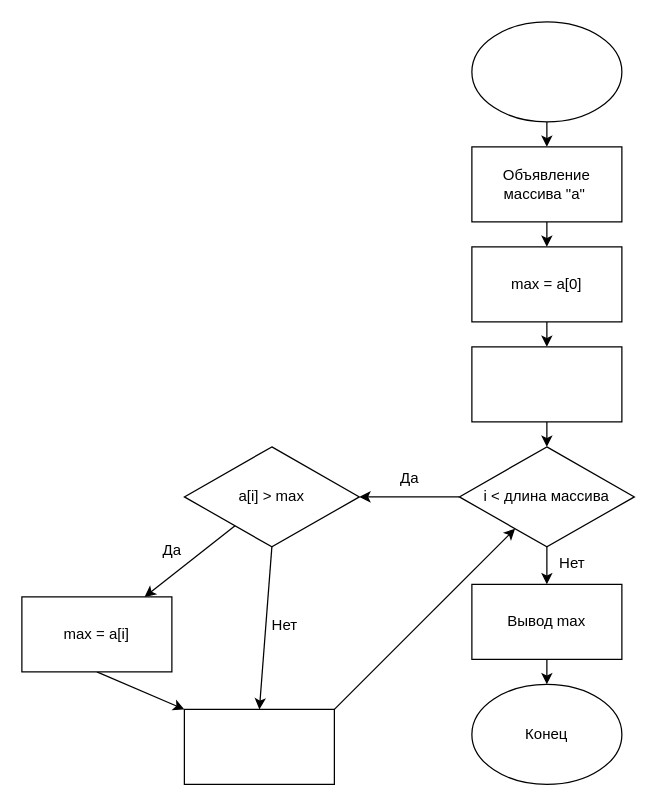
This 656x806 diagram has some shape labels left out. Each missing label, with the box of its shape:
i = 1: (471, 346, 622, 422)
i = i + 1: (183, 708, 334, 784)
Начало: (471, 21, 622, 122)
